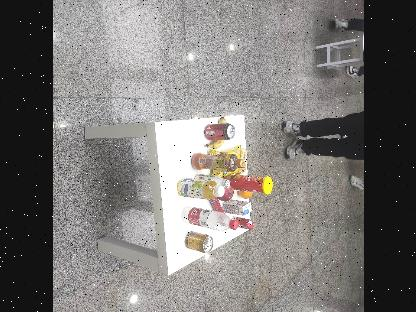Can: (204, 124, 236, 140), (184, 234, 212, 252)
Others: (230, 172, 272, 192), (221, 201, 250, 214), (232, 217, 254, 231)
Plastic Bottle: (183, 210, 237, 230)
